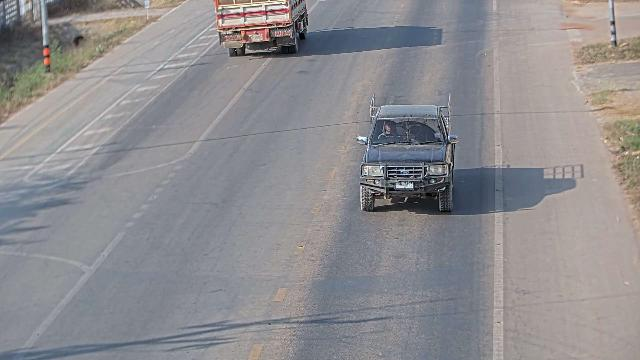pickup-truck: (356, 92, 459, 212), (212, 0, 308, 56)
